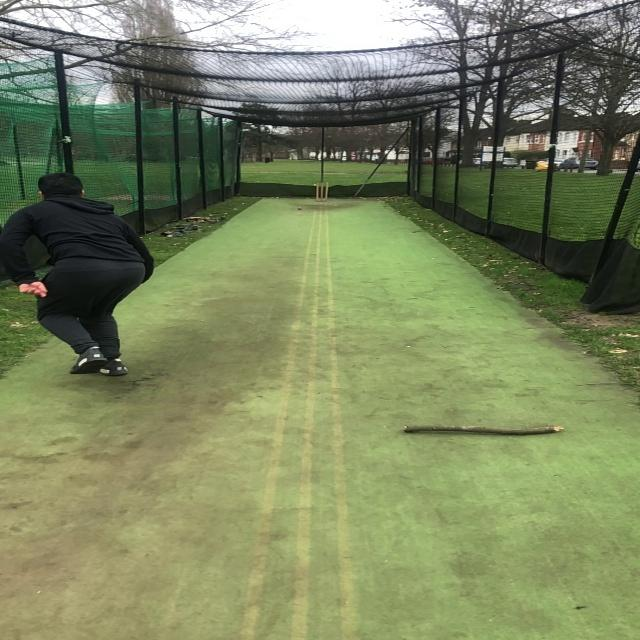ball: (298, 207, 302, 210)
